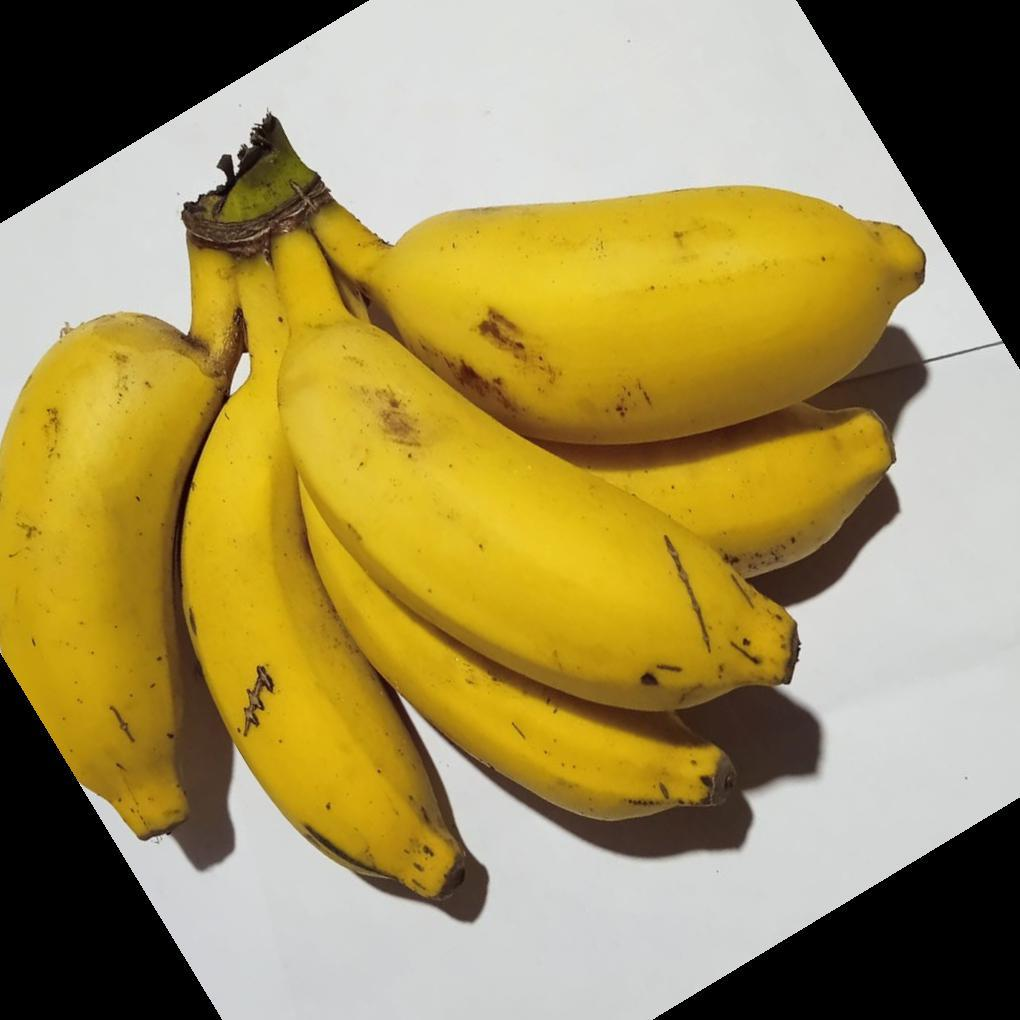Banana Ripe: (6, 116, 923, 921), (269, 240, 814, 729), (168, 277, 490, 924), (303, 157, 933, 444), (0, 300, 229, 851)
